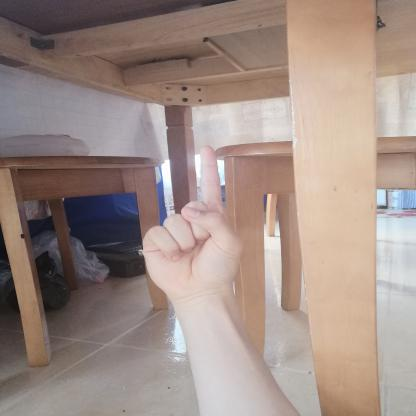BAA: (132, 131, 246, 311)
